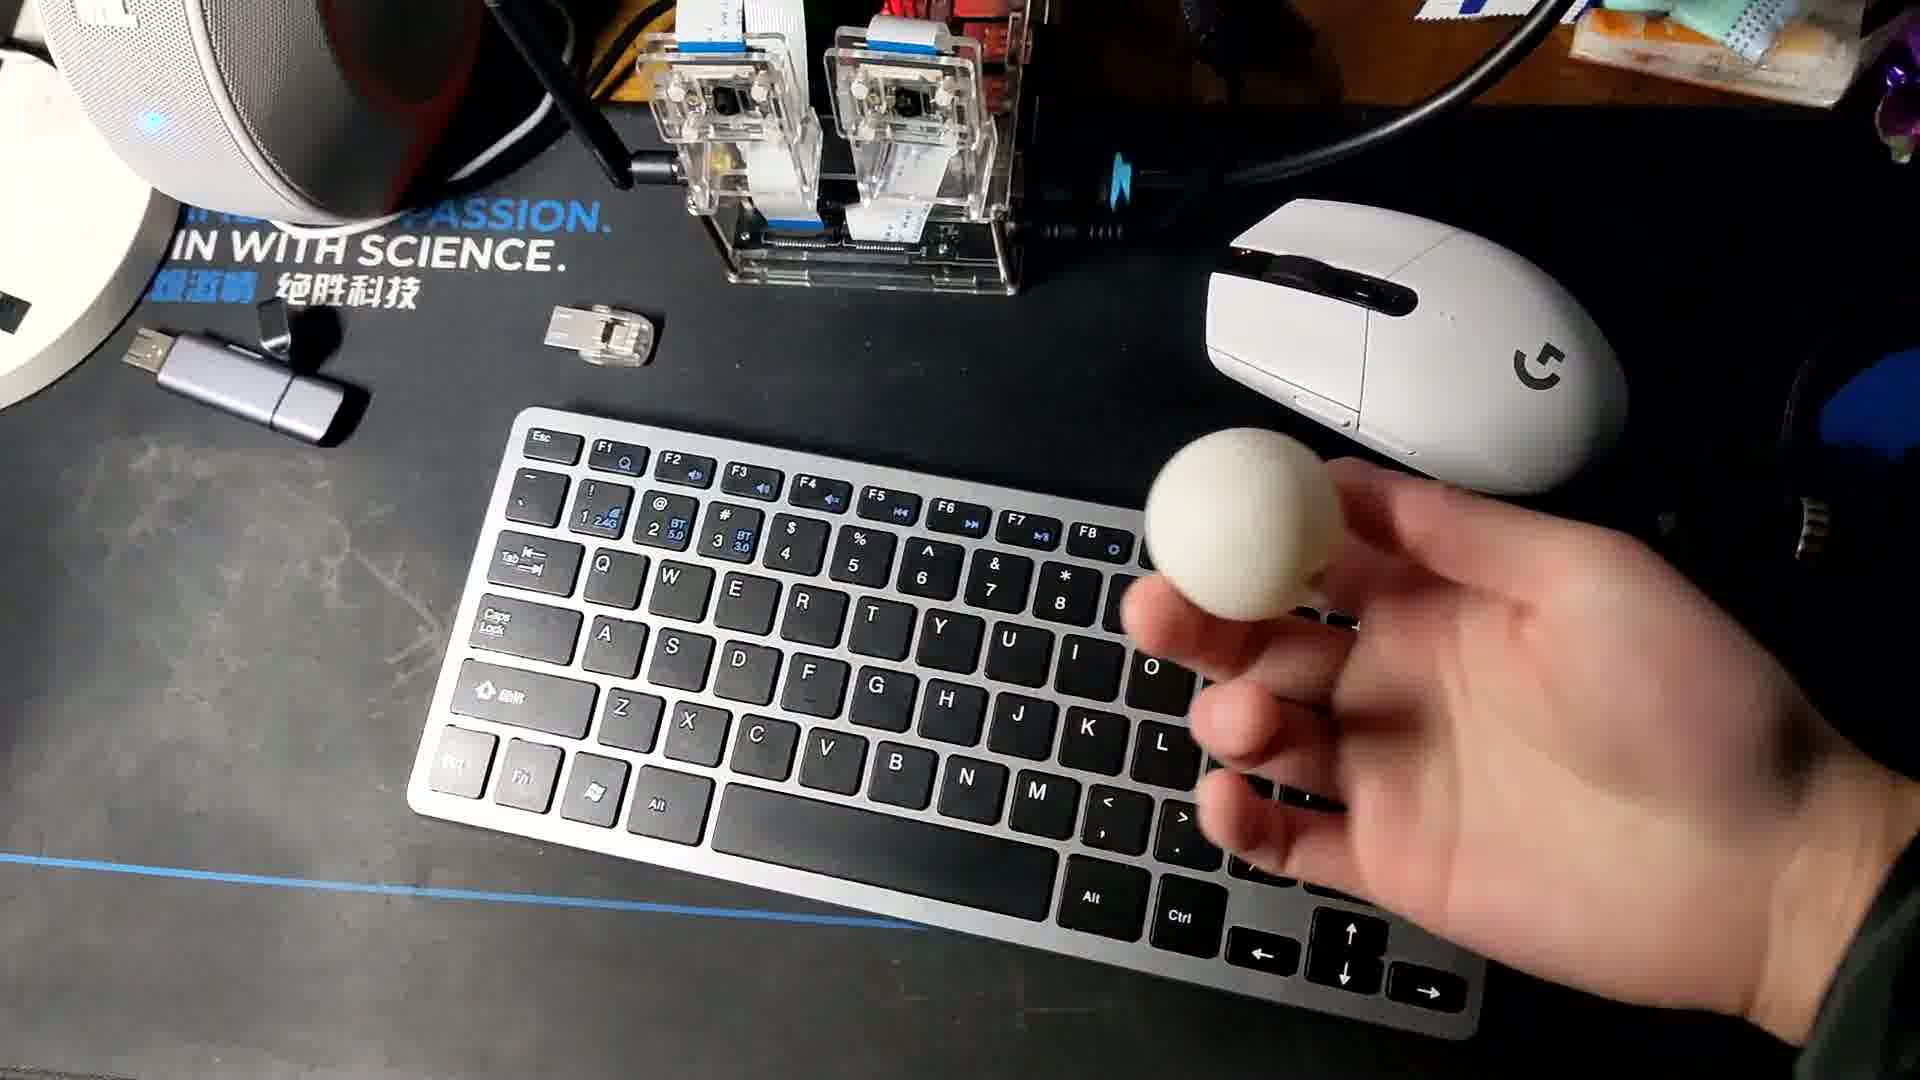Ball: (1143, 429, 1342, 629)
